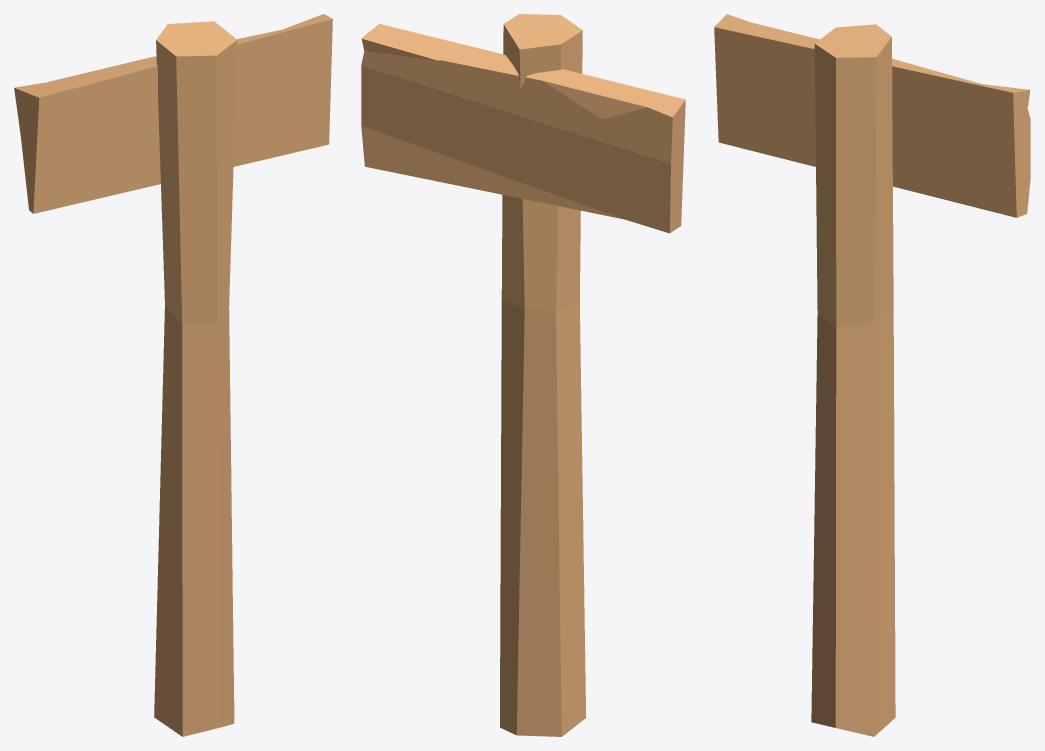
The model's file is cc_sign_ud.fbx.
3 views of the same model, side by side, from view 1: azimuth 30°, elevation 25°; view 2: azimuth 150°, elevation 25°; view 3: azimuth 330°, elevation 25° (orthographic). The views are drawn at different scales.
Parts seen in each view (by area): view 1: Cube; view 2: Cube; view 3: Cube.
Boxes of the visible parts, x1,y1,x2,y2 form: Cube: (14,14,332,736); Cube: (361,14,685,736); Cube: (714,14,1030,736).
Size of the model in its own units: 318 by 676 by 85.93.
